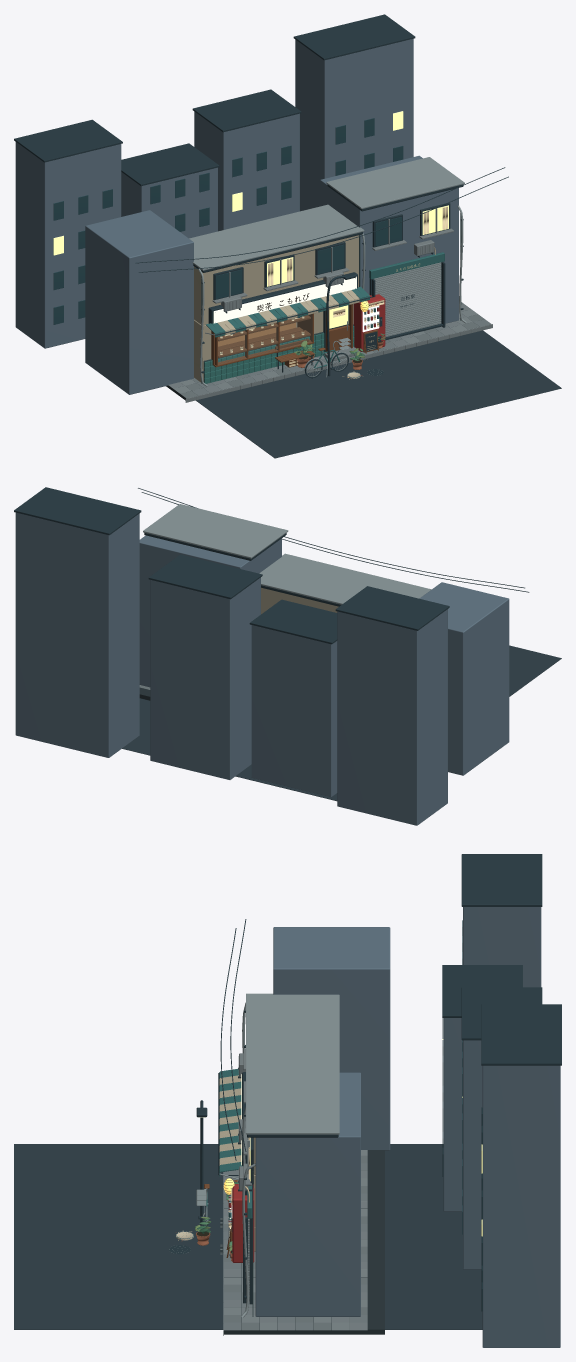
Rendered from street.glb.
3 renders of one model, top to bottom at view 1: azimuth 30°, elevation 25°; view 2: azimuth 150°, elevation 25°; view 3: azimuth 270°, elevation 25°, orthographic. The views are drawn at different scales.
Visible parts, largest first — view 1: Street_indigo_plaster, Street_wet_asphalt, Street_painted_iron, Street_brushed_steel, Street_smoked_glass, Street_ivory_plaster, Street_stained_oak, Street_curb_stone, Street_cafe_glazing, Street_awning_teal, Street_glazed_jade_tile, Street_window_glow (+8 smaller); view 2: Street_indigo_plaster, Street_painted_iron, Street_brushed_steel, Street_wet_asphalt, Street_ivory_plaster; view 3: Street_indigo_plaster, Street_wet_asphalt, Street_painted_iron, Street_brushed_steel, Street_pavement_joints, Street_awning_teal, Street_paver_1, Street_paver_2, Street_paver_3, Street_paver_0, Street_awning_cream, Street_oxblood_enamel (+2 smaller).
Part boxes in pixels (left/top/right/bottom): Street_indigo_plaster: left=15, top=38, right=458, bottom=394; Street_wet_asphalt: left=196, top=330, right=561, bottom=458; Street_painted_iron: left=14, top=14, right=508, bottom=378; Street_brushed_steel: left=189, top=157, right=466, bottom=386; Street_smoked_glass: left=53, top=118, right=403, bottom=324; Street_ivory_plaster: left=194, top=235, right=358, bottom=382; Street_stained_oak: left=211, top=301, right=378, bottom=367; Street_curb_stone: left=185, top=228, right=492, bottom=402; Street_cafe_glazing: left=218, top=315, right=311, bottom=364; Street_awning_teal: left=206, top=252, right=444, bottom=368; Street_glazed_jade_tile: left=204, top=326, right=354, bottom=383; Street_window_glow: left=53, top=111, right=448, bottom=328; Street_indigo_plaster: left=15, top=512, right=509, bottom=825; Street_painted_iron: left=14, top=487, right=529, bottom=644; Street_brushed_steel: left=143, top=504, right=431, bottom=604; Street_wet_asphalt: left=122, top=645, right=561, bottom=801; Street_ivory_plaster: left=261, top=587, right=338, bottom=614; Street_indigo_plaster: left=255, top=907, right=560, bottom=1347; Street_wet_asphalt: left=14, top=1144, right=482, bottom=1329; Street_painted_iron: left=169, top=854, right=561, bottom=1304; Street_brushed_steel: left=169, top=993, right=339, bottom=1317; Street_pavement_joints: left=220, top=1150, right=384, bottom=1334; Street_awning_teal: left=206, top=1069, right=251, bottom=1219; Street_paver_1: left=224, top=1163, right=367, bottom=1330; Street_paver_2: left=224, top=1171, right=367, bottom=1330; Street_paver_3: left=224, top=1150, right=367, bottom=1330; Street_paver_0: left=224, top=1155, right=367, bottom=1330; Street_awning_cream: left=219, top=1075, right=241, bottom=1165; Street_oxblood_enamel: left=228, top=1184, right=254, bottom=1262.
Size of the model in its own units: 476 by 259 by 449.
